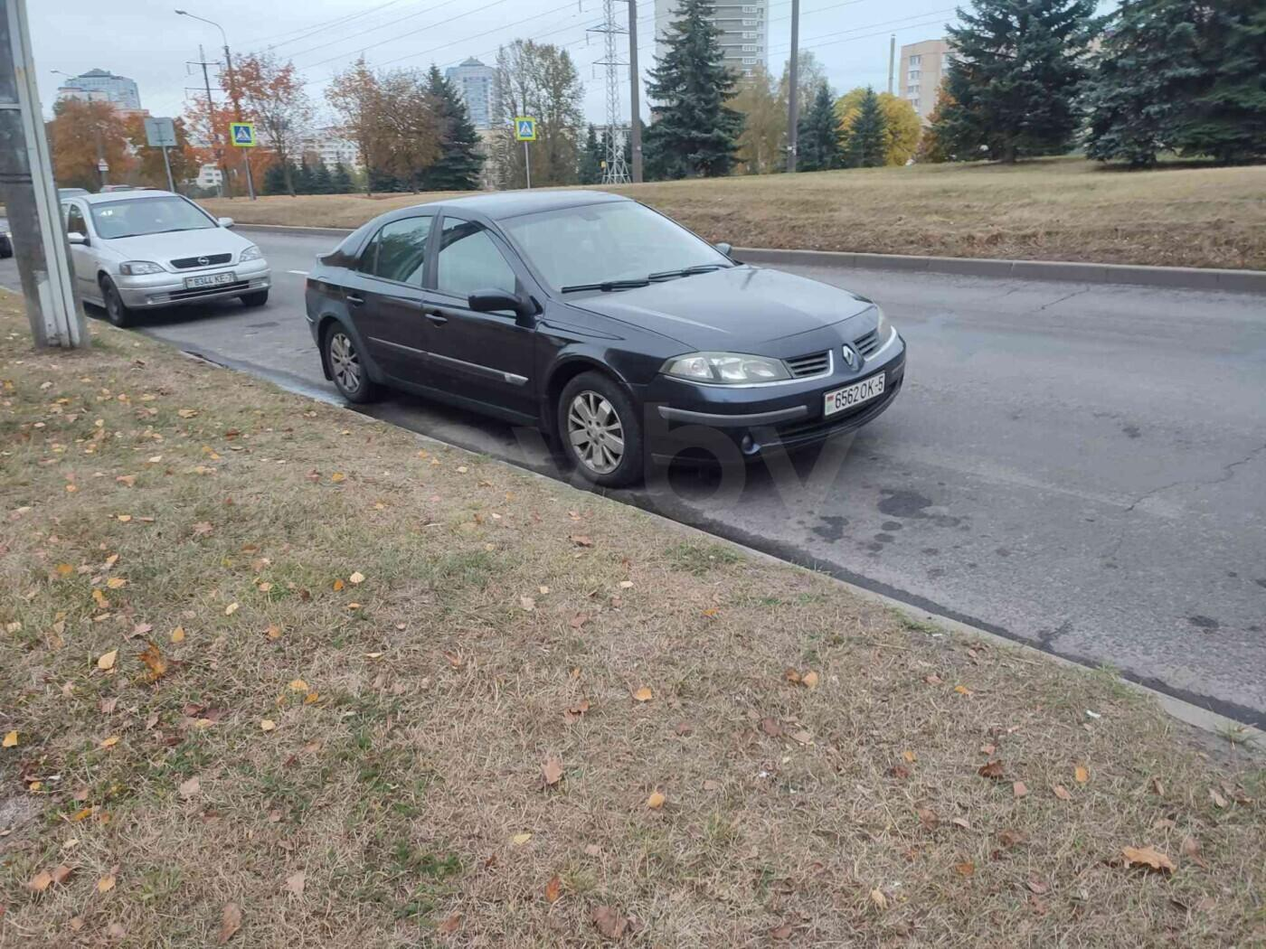Laguna_2005-2007: (306, 185, 913, 492)
